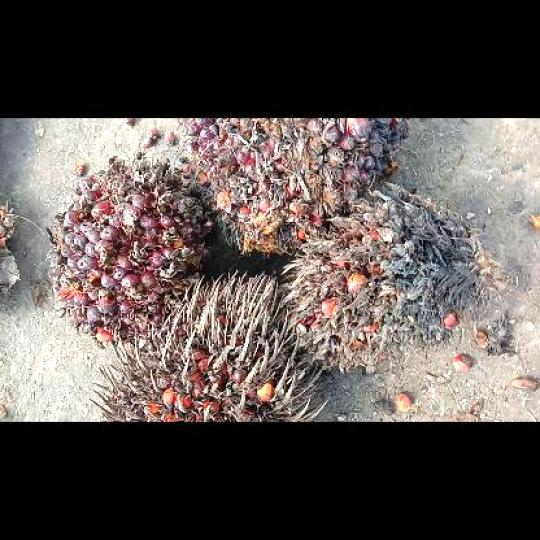masak: (49, 152, 216, 344), (180, 118, 406, 253)
terlalu masak: (282, 182, 489, 371), (89, 271, 326, 420)
